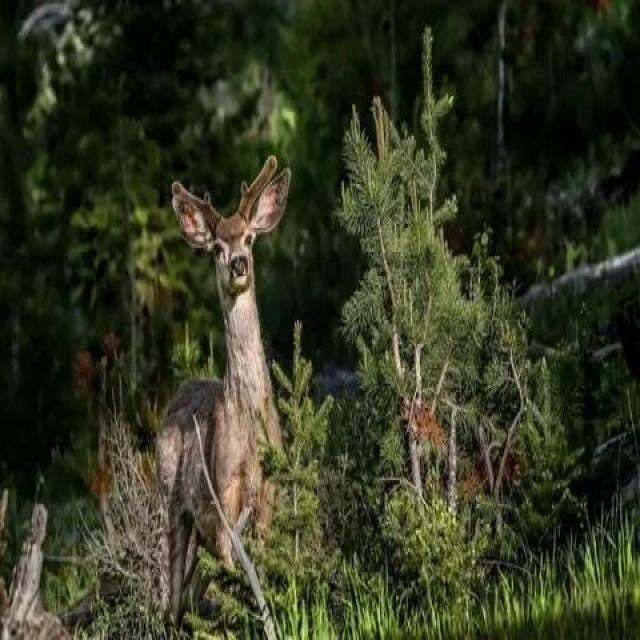deer: (162, 141, 324, 574)
